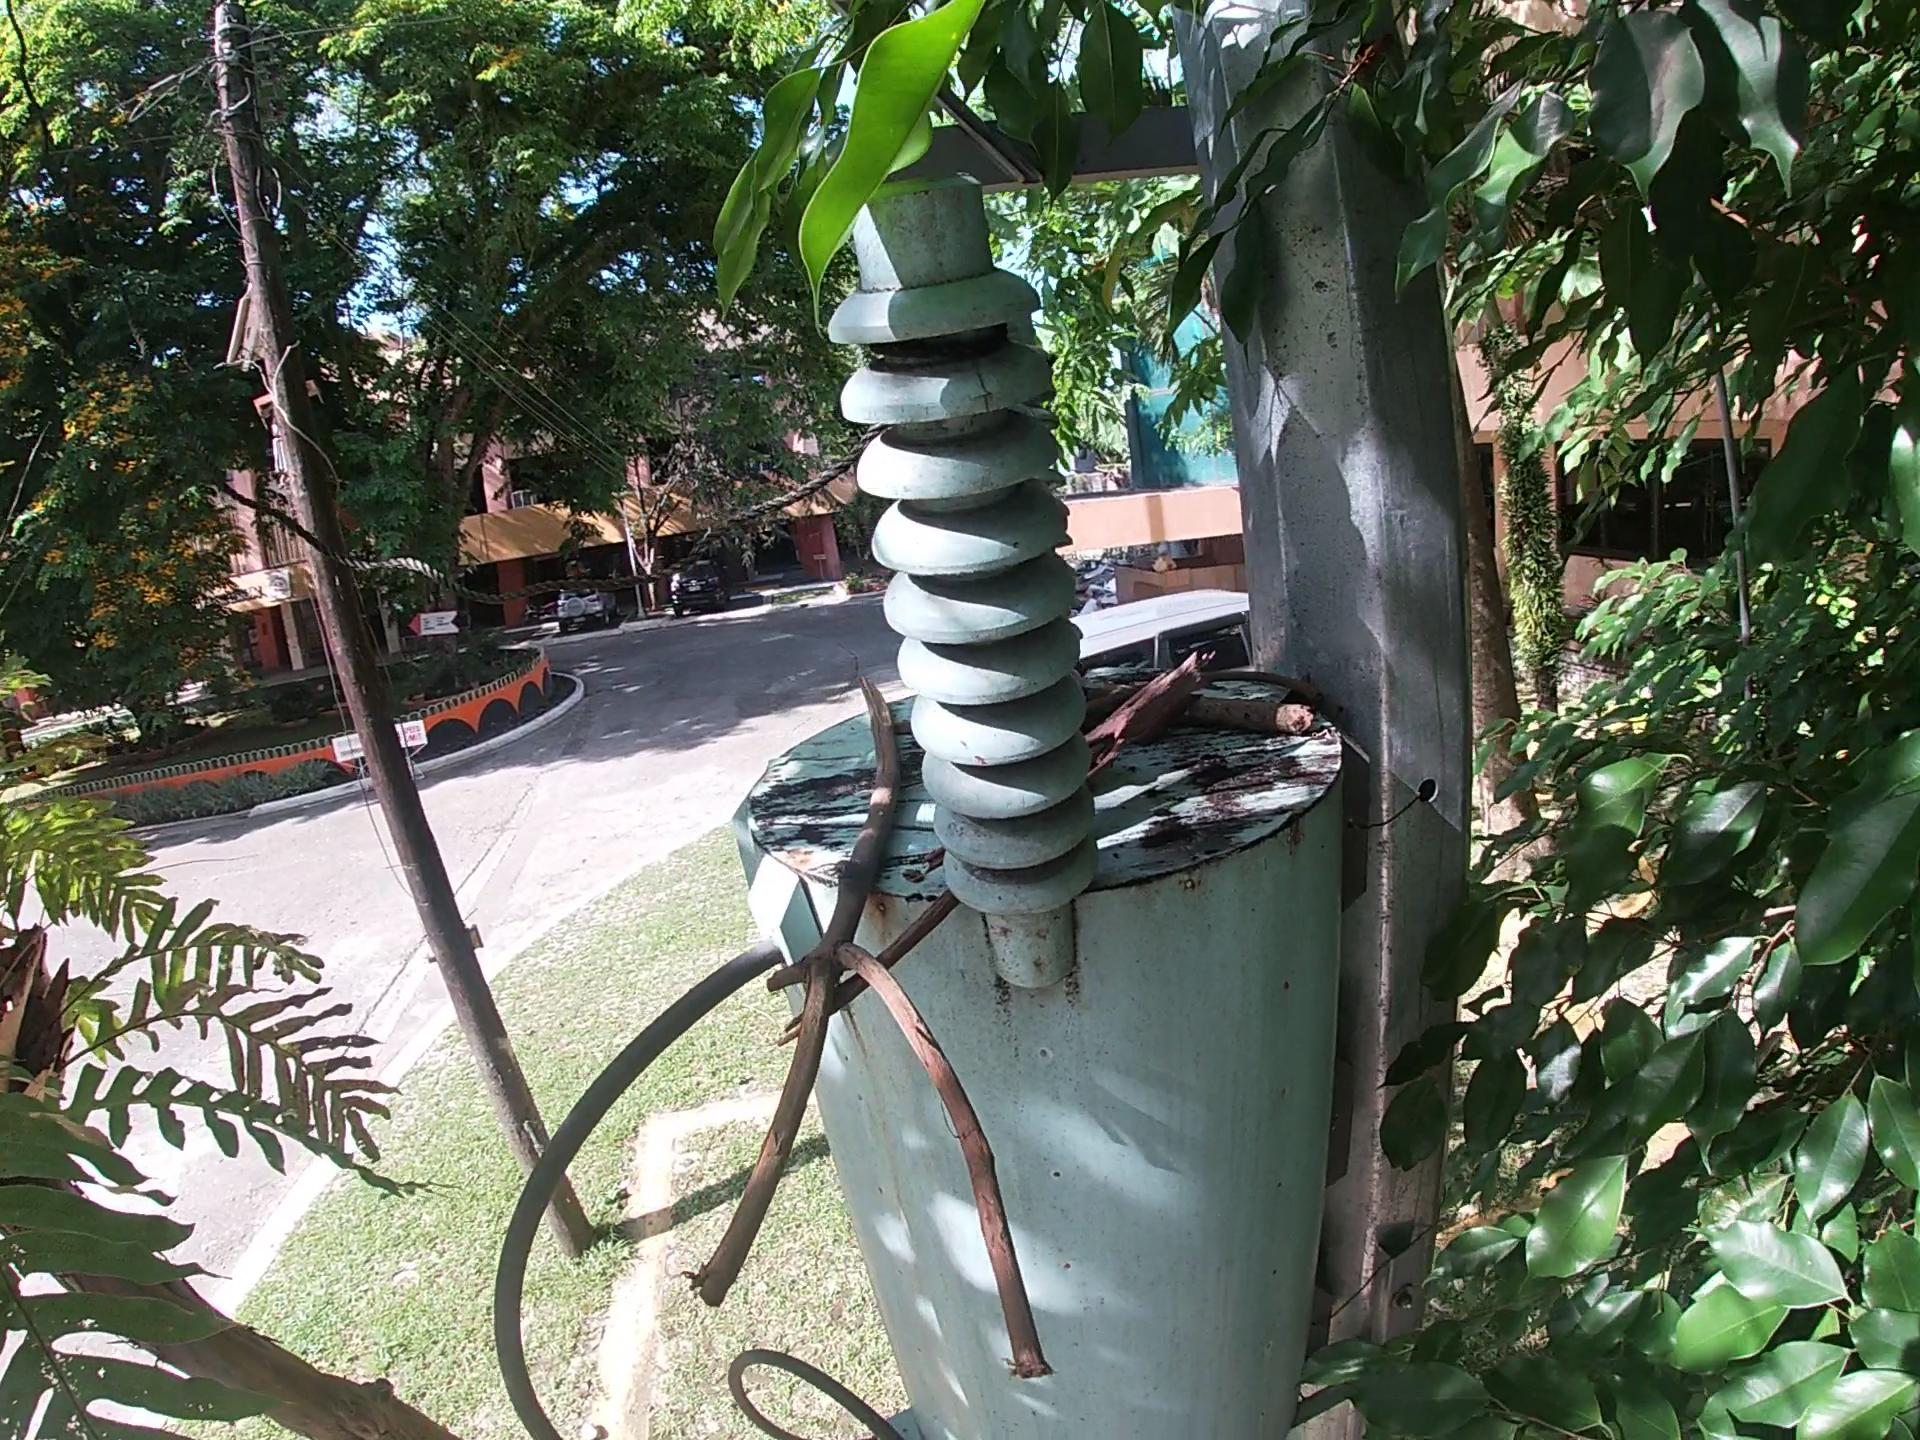leaf: (1131, 691, 1203, 753)
tree branch: (670, 659, 1072, 1389), (777, 883, 965, 1053), (1079, 647, 1215, 774), (1079, 684, 1321, 737), (1196, 666, 1332, 709)
